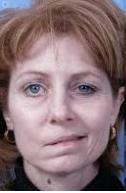strokeEyeMid: (17, 64, 106, 105)
strokeMouthMid: (42, 129, 90, 151)
